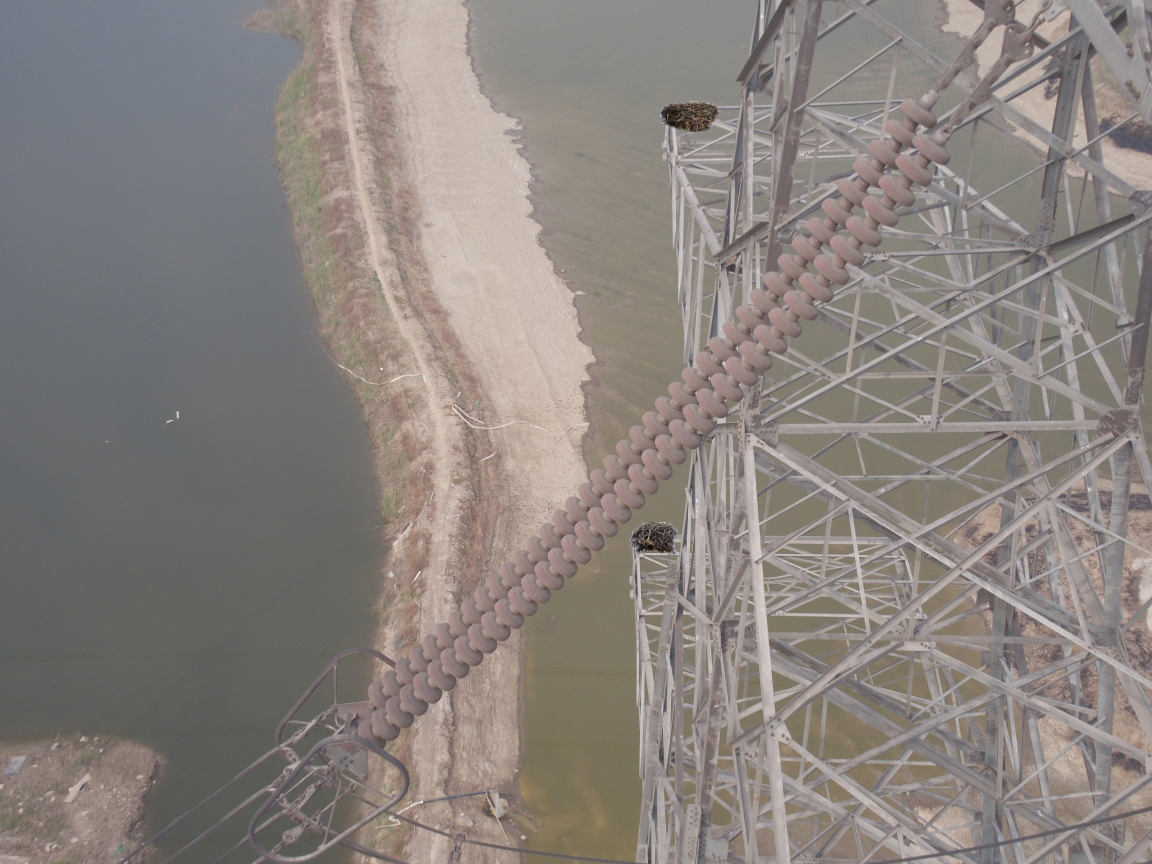nest: (658, 97, 719, 130), (630, 520, 681, 556)
